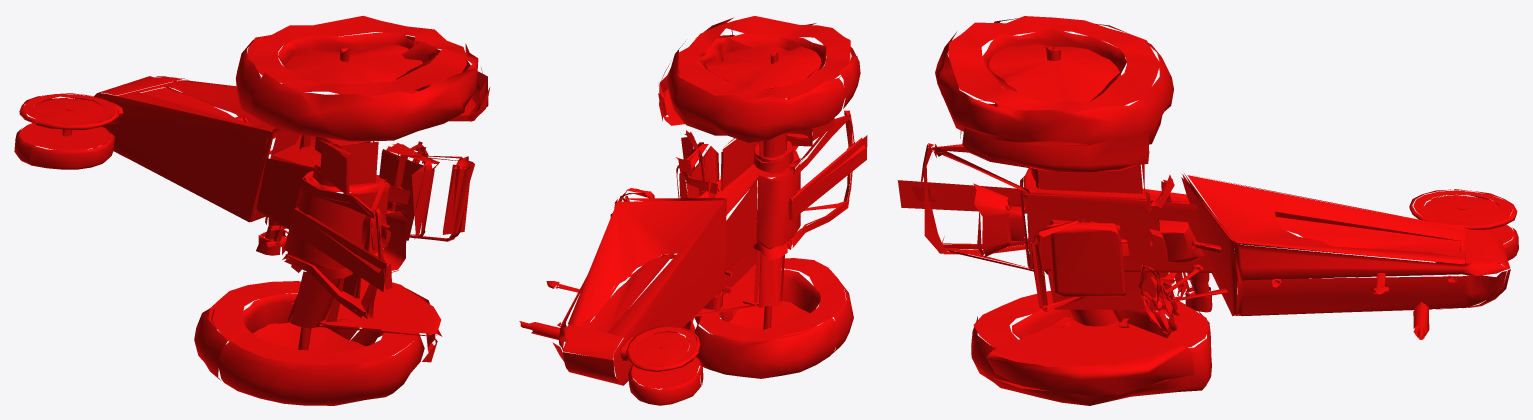
3 views of the same model, side by side, from view 1: azimuth 30°, elevation 25°; view 2: azimuth 150°, elevation 25°; view 3: azimuth 270°, elevation 25° (orthographic). The views are drawn at different scales.
Parts seen in each view (by area): view 1: Renderer Node; view 2: Renderer Node; view 3: Renderer Node.
Boxes of the visible parts, x1,y1,x2,y2 form: Renderer Node: [14, 15, 490, 405]; Renderer Node: [519, 16, 867, 405]; Renderer Node: [897, 16, 1518, 405].
Bounding box in the file's own units: 0.7492 × 0.9573 × 1.57.
1 material, 1 textured.
